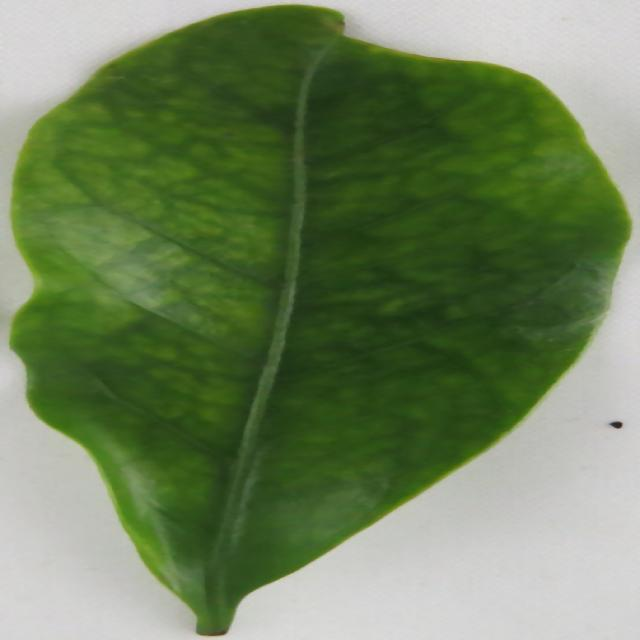DeficienciaNutricional-Boro: (11, 5, 629, 635)
